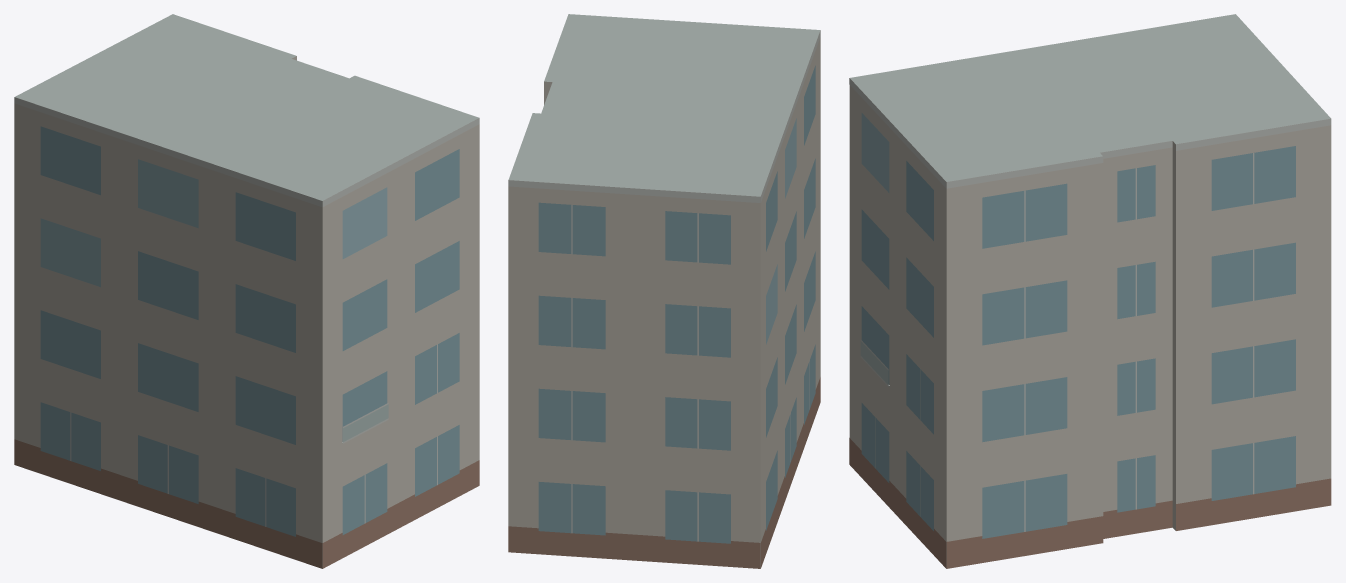
File: survey-upis-32843272.glb
3 renders of one model, left to right at view 1: azimuth 30°, elevation 25°; view 2: azimuth 150°, elevation 25°; view 3: azimuth 270°, elevation 25°, orthographic. The views are drawn at different scales.
Visible parts, largest first — view 1: survey-upis-32843272.tmp; view 2: survey-upis-32843272.tmp; view 3: survey-upis-32843272.tmp.
Boxes of the visible parts, left/top/right/bottom form: survey-upis-32843272.tmp: left=14, top=14, right=479, bottom=568; survey-upis-32843272.tmp: left=508, top=14, right=820, bottom=568; survey-upis-32843272.tmp: left=849, top=14, right=1331, bottom=568.
Size of the model in its own units: 13.29 by 14.25 by 16.1.
